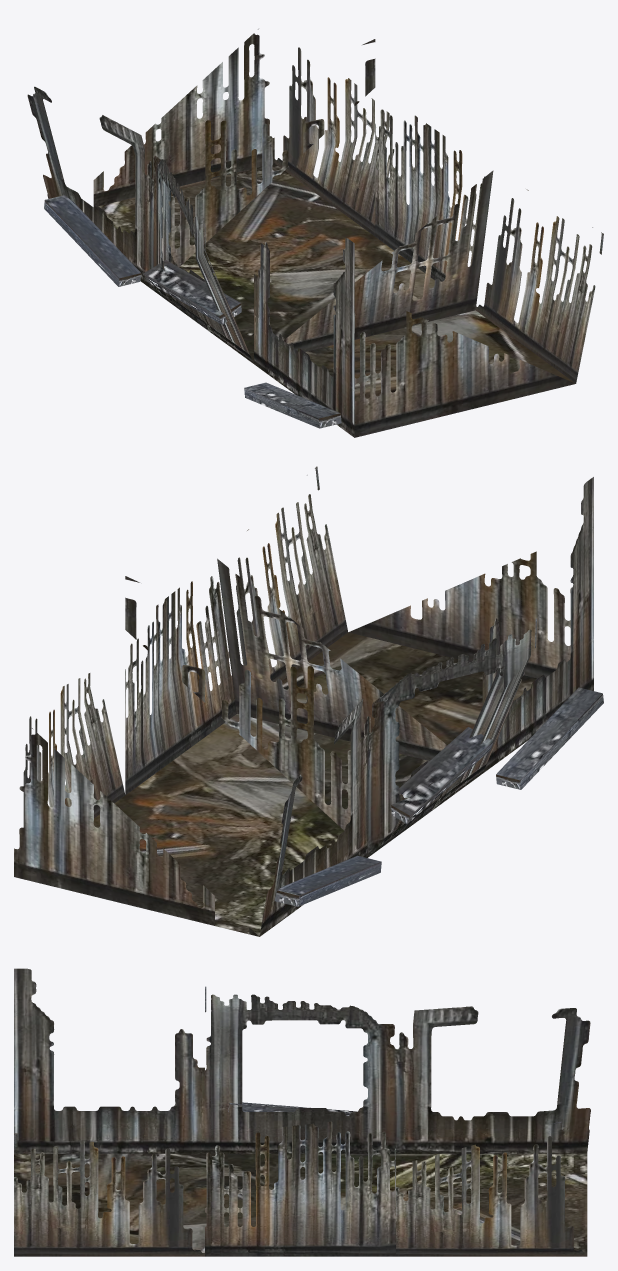
The model's file is civstorageb_dam_hdtex.glb.
3 views of the same model, one above another, from view 1: azimuth 30°, elevation 25°; view 2: azimuth 150°, elevation 25°; view 3: azimuth 270°, elevation 25° (orthographic). The views are drawn at different scales.
Parts seen in each view (by area): view 1: Box01; view 2: Box01; view 3: Box01.
Part boxes in pixels (x1,y1,x2,y2): Box01: [27, 29, 603, 437]; Box01: [14, 466, 603, 936]; Box01: [14, 968, 590, 1256].
Size of the model in its own units: 8.4 by 5.83 by 15.12.
1 material, 1 textured.
